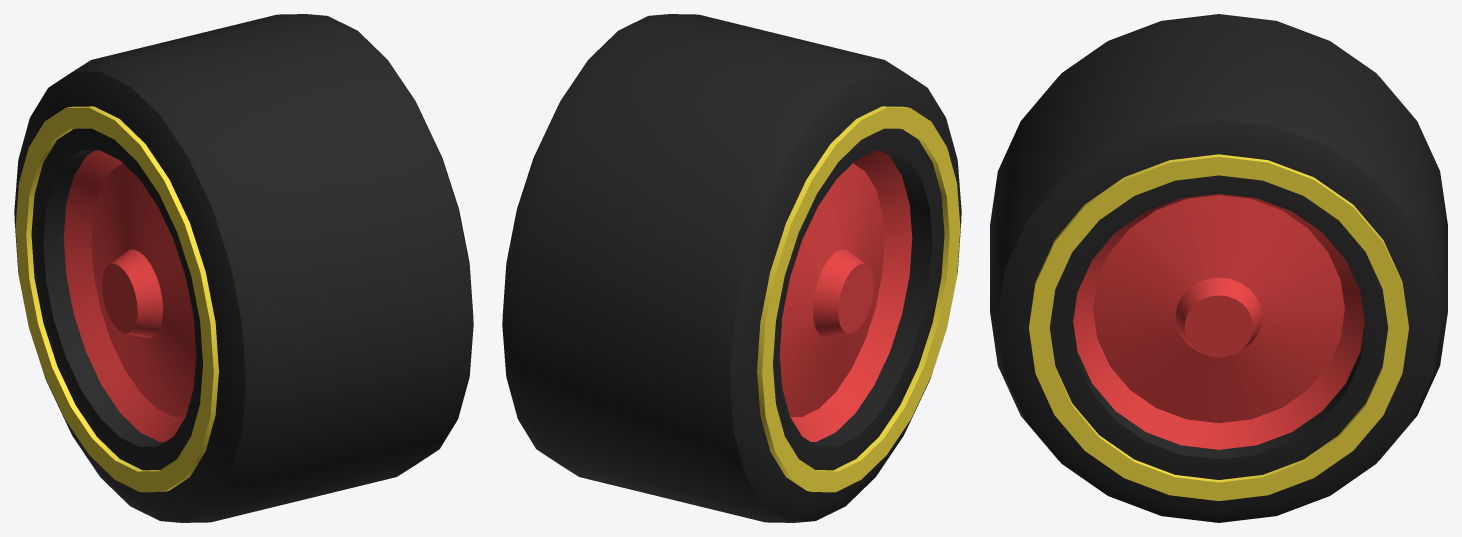
File: Wheels_Slick.fbx
The picture shows the model from 3 angles, left to right: view 1: azimuth 30°, elevation 25°; view 2: azimuth 150°, elevation 25°; view 3: azimuth 270°, elevation 25°; orthographic projection. The views are drawn at different scales.
Parts seen in each view (by area): view 1: Slick_Tyre, Slick_Rim, Slick_Stripe; view 2: Slick_Tyre, Slick_Rim, Slick_Stripe; view 3: Slick_Tyre, Slick_Rim, Slick_Stripe.
Part boxes in pixels (box(x1,y1,x2,y2)): Slick_Tyre: box(14, 14, 473, 522); Slick_Rim: box(63, 150, 196, 441); Slick_Stripe: box(15, 106, 218, 492); Slick_Tyre: box(502, 14, 961, 522); Slick_Rim: box(779, 150, 912, 441); Slick_Stripe: box(757, 106, 960, 492); Slick_Tyre: box(990, 14, 1447, 522); Slick_Rim: box(1073, 193, 1364, 449); Slick_Stripe: box(1029, 154, 1408, 500).
Size of the model in its own units: 125 by 200 by 200.
